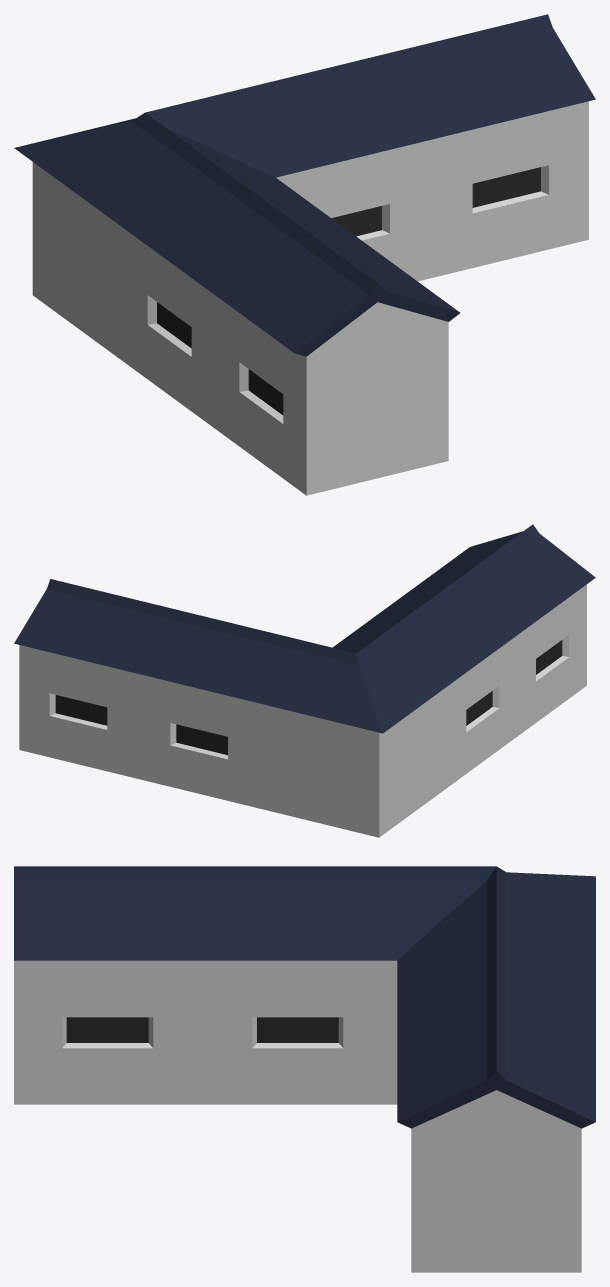
Rendered from japan-wall-japan-edge-medium.glb.
The picture shows the model from 3 angles, top to bottom: view 1: azimuth 30°, elevation 25°; view 2: azimuth 150°, elevation 25°; view 3: azimuth 270°, elevation 25°; orthographic projection. The views are drawn at different scales.
Visible parts, largest first — view 1: wall-japan-edge-medium; view 2: wall-japan-edge-medium; view 3: wall-japan-edge-medium.
Part boxes in pixels (box(x1,y1,x2,y2)): wall-japan-edge-medium: box(14, 14, 595, 495); wall-japan-edge-medium: box(14, 524, 595, 837); wall-japan-edge-medium: box(14, 866, 595, 1272).
Size of the model in its own units: 10.25 by 3.94 by 10.25.
